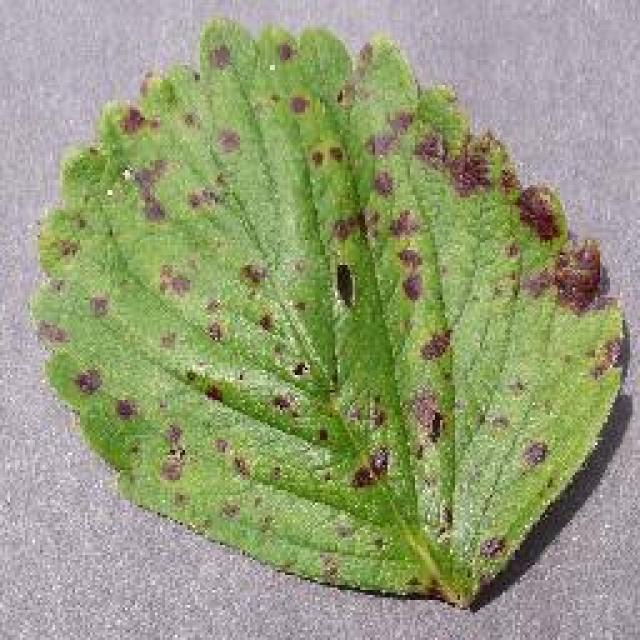Strawberry leaf scorch: (110, 93, 600, 460)
